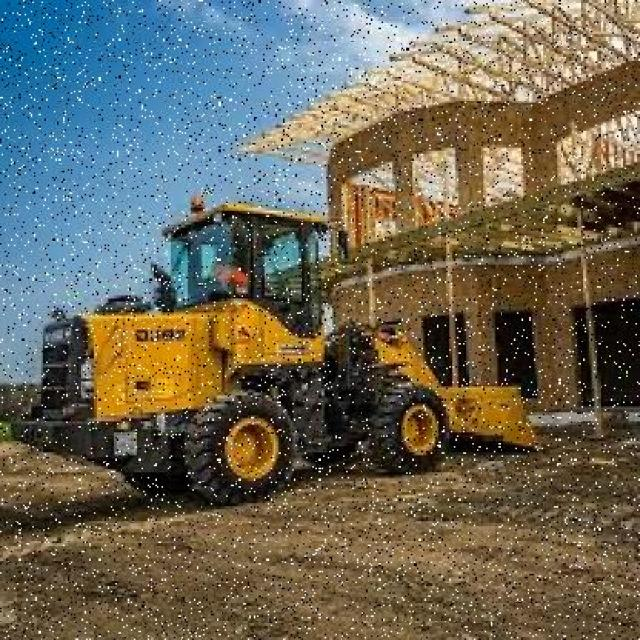buldozerpayloadergrader: (4, 184, 471, 510)
